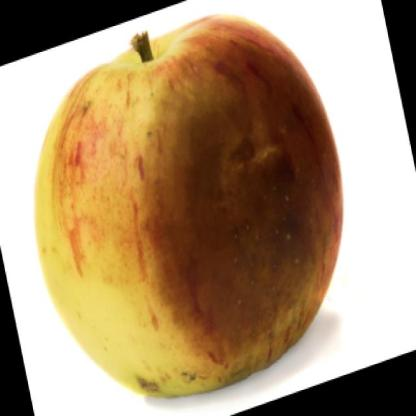defect: (148, 40, 338, 362), (116, 360, 218, 416)
